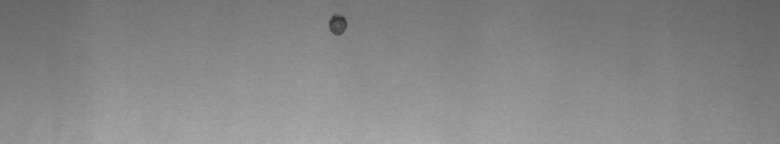fi: (324, 8, 352, 40)
